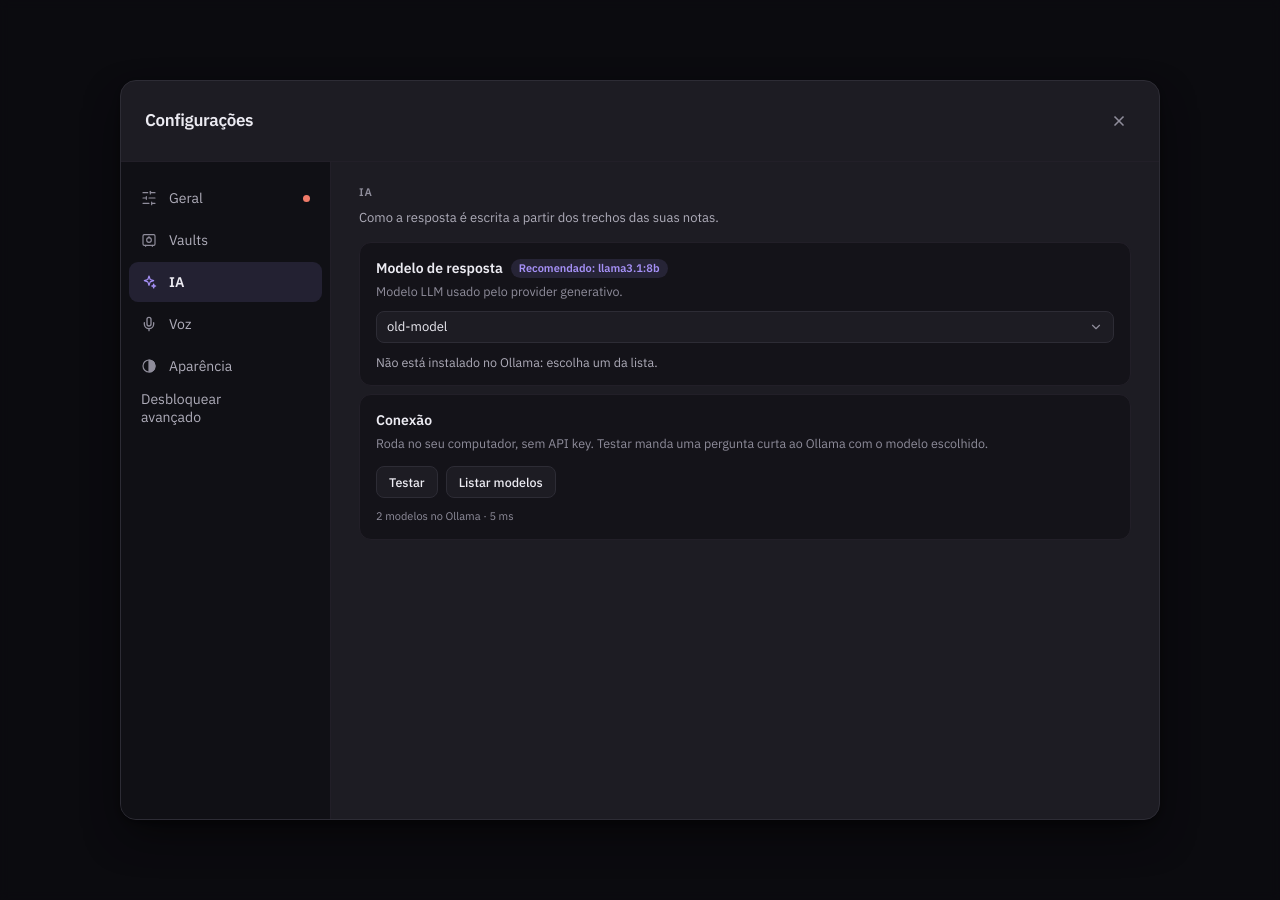
Test case: SettingsModal › Testar usa o provedor e o modelo que estão na tela, mesmo sem salvar
Click the dropdown named "Modelo de resposta": (417,327) [376,310,1114,342]
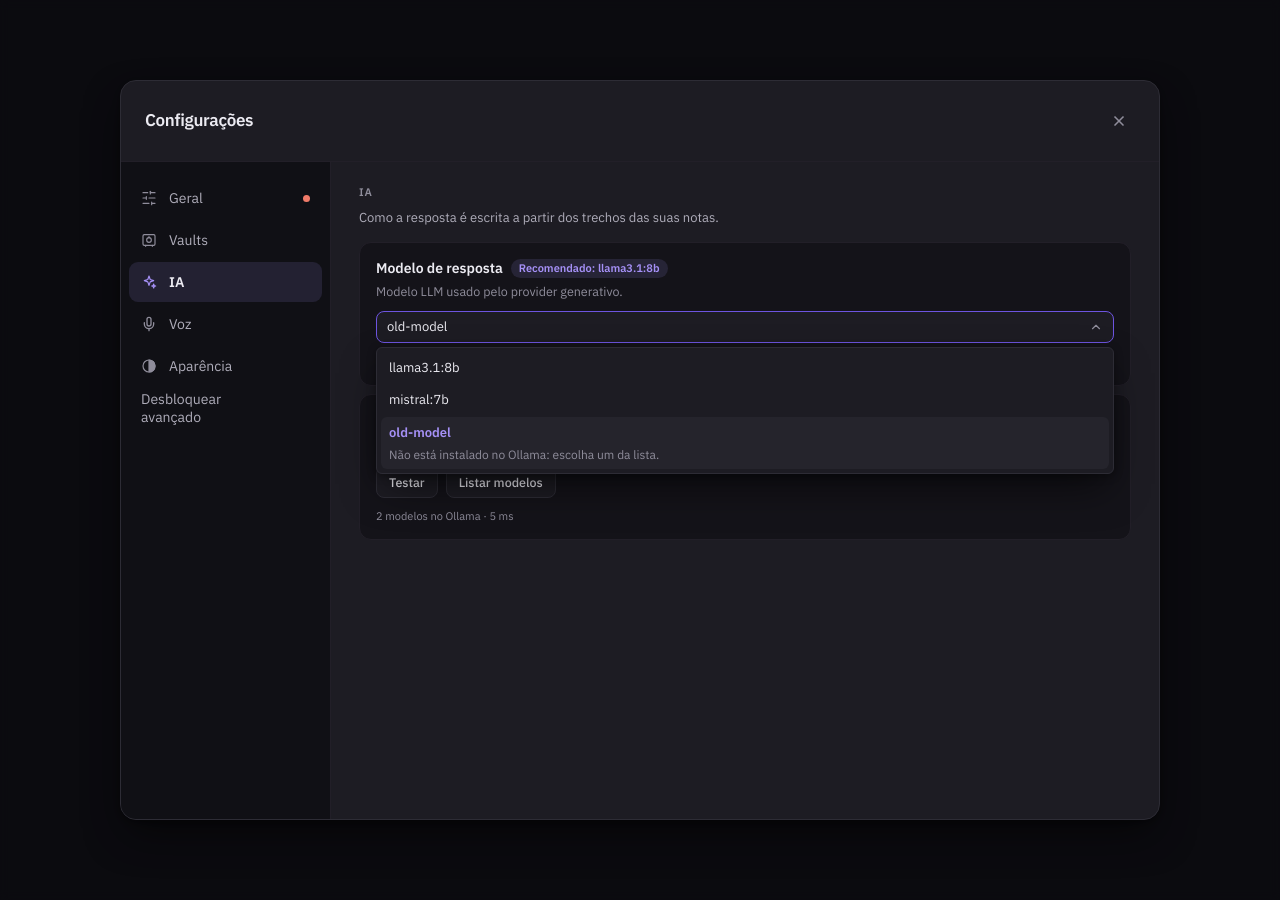
Click the option "mistral:7b": (419,400) [389,391,449,408]
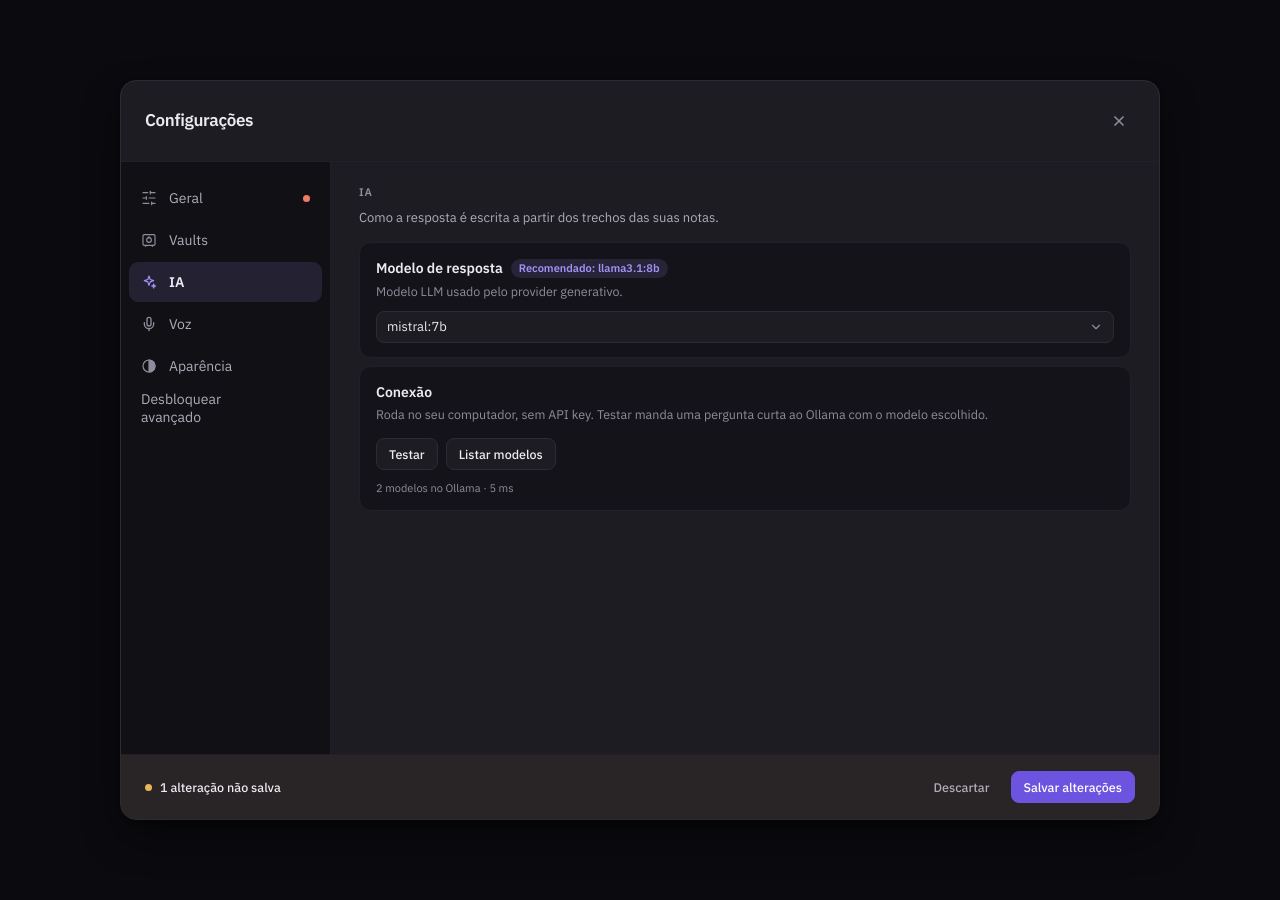
Click the button with aria-label "Testar provider": (407,454) [376,438,438,470]
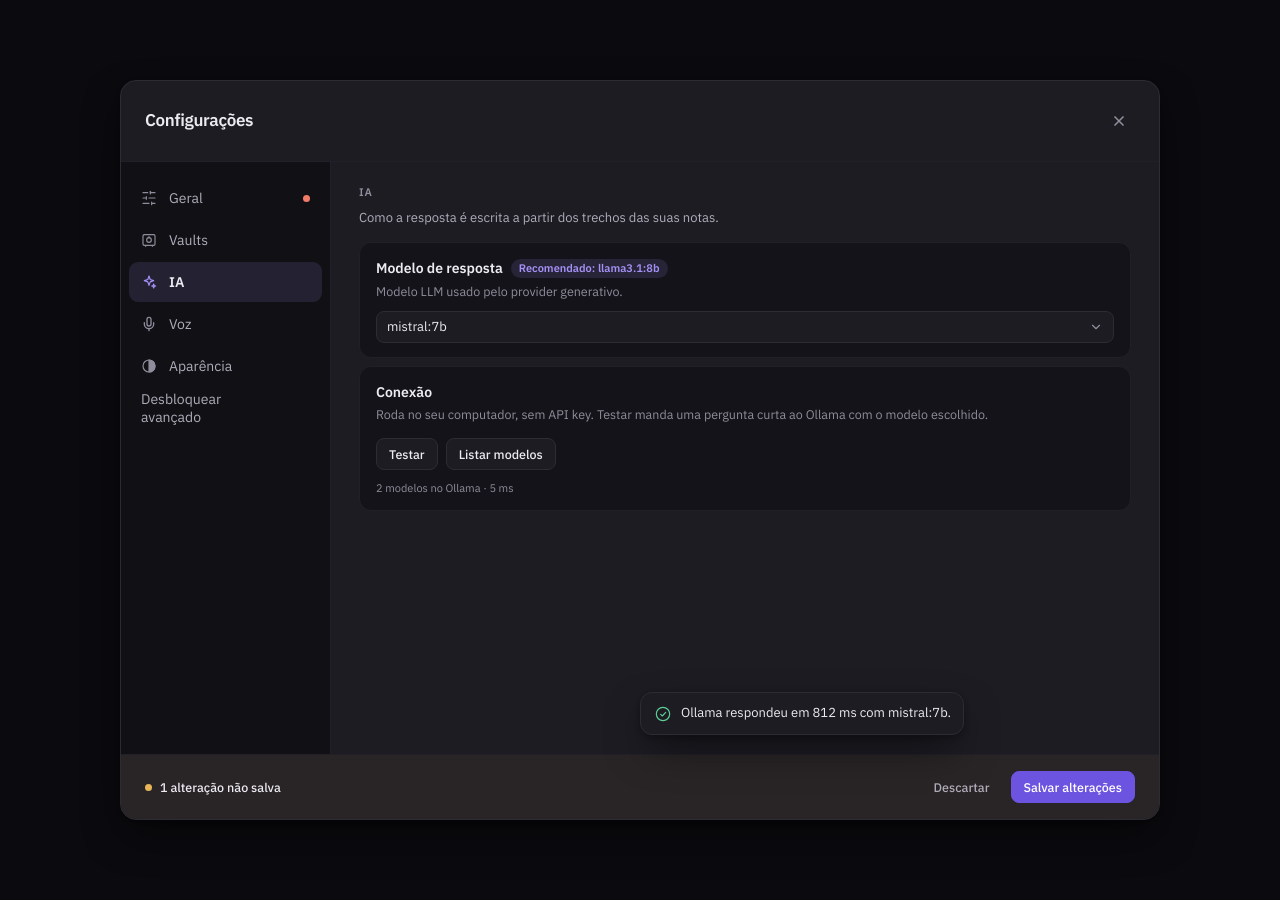
Result: the text "Ollama respondeu em 812 ms com mistral:7b." is shown at [681,703,951,724]
